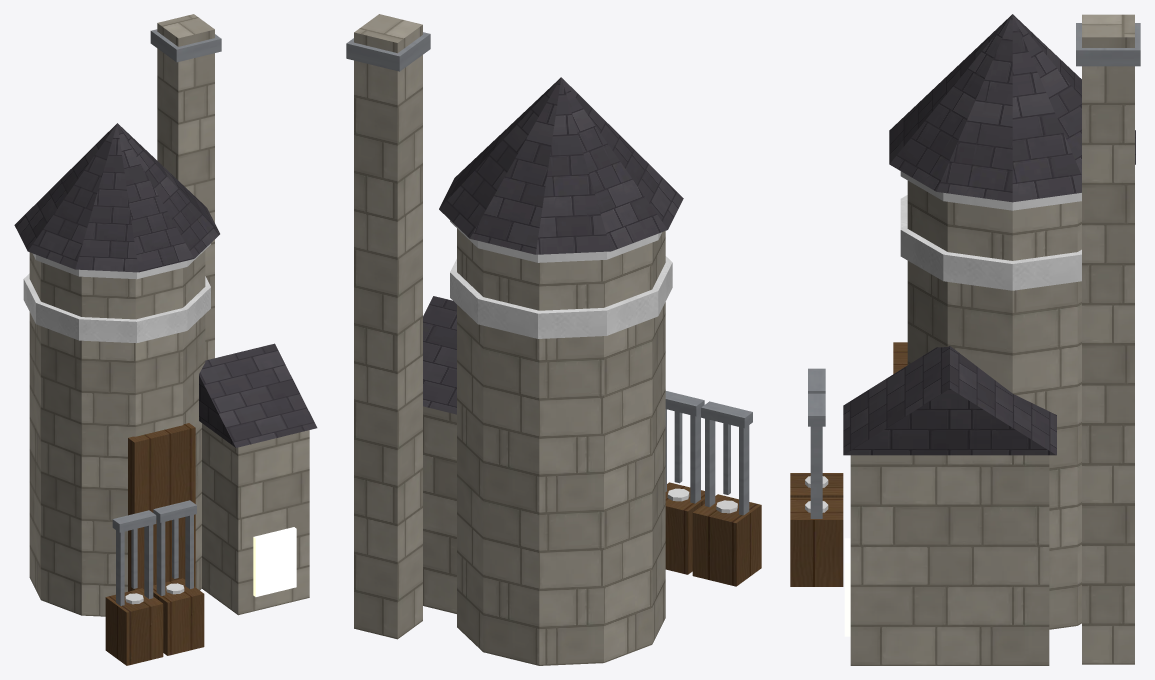
File: protocol.maker.glb
3 views of the same model, side by side, from view 1: azimuth 30°, elevation 25°; view 2: azimuth 150°, elevation 25°; view 3: azimuth 270°, elevation 25° (orthographic). The views are drawn at different scales.
Parts seen in each view (by area): view 1: building.protocol.maker; view 2: building.protocol.maker; view 3: building.protocol.maker.
Part boxes in pixels (x1,y1,x2,y2): building.protocol.maker: [14, 14, 317, 665]; building.protocol.maker: [346, 14, 761, 665]; building.protocol.maker: [790, 14, 1140, 665].
Bounding box in the file's own units: 2.18 × 4.7 × 2.38.
7 materials, 6 textured.
